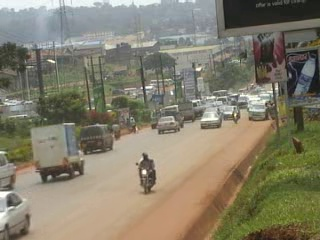Car: (0, 187, 35, 238), (156, 115, 181, 134), (199, 110, 222, 130), (148, 107, 164, 130), (222, 104, 242, 120), (204, 105, 222, 115)
Motorcycle: (133, 151, 159, 198), (110, 120, 123, 142), (230, 105, 242, 124)
